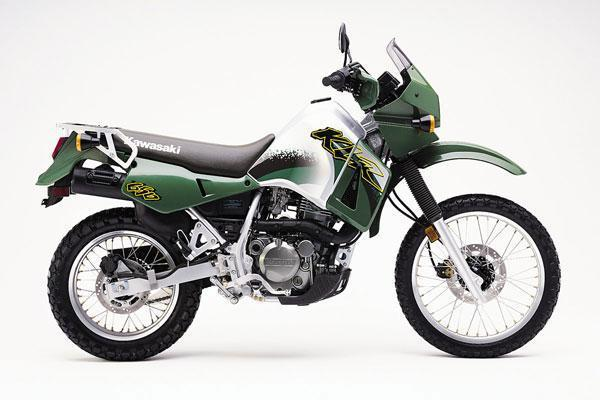Motorcycle: (26, 16, 575, 377)
